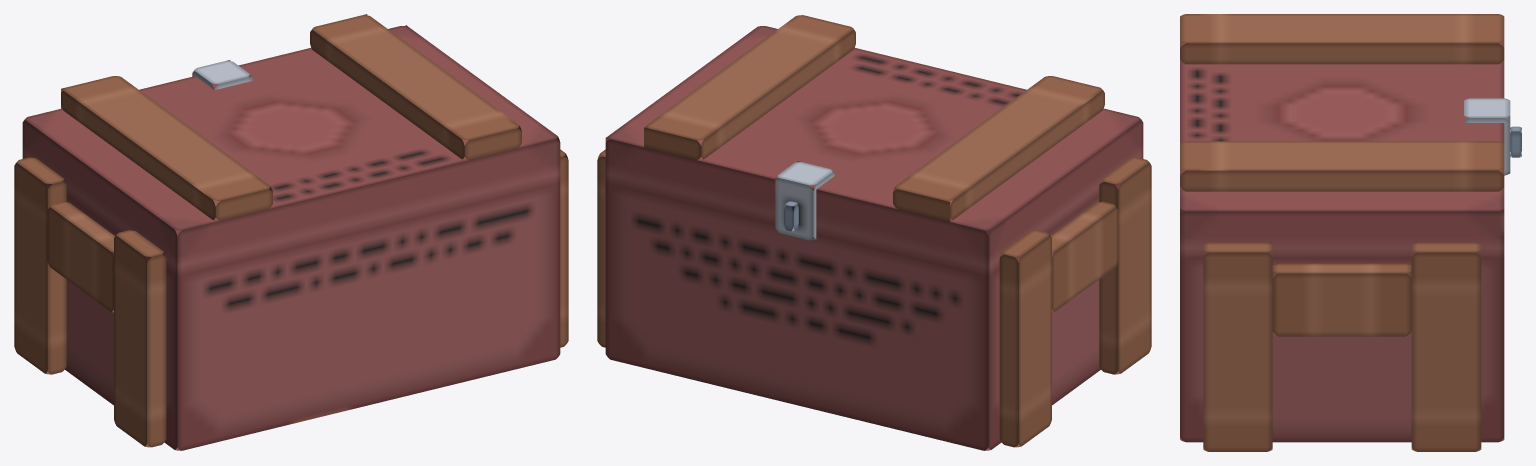
The model's file is Ammo_Box.fbx.
3 renders of one model, left to right at view 1: azimuth 30°, elevation 25°; view 2: azimuth 150°, elevation 25°; view 3: azimuth 270°, elevation 25°, orthographic. The views are drawn at different scales.
Parts seen in each view (by area): view 1: Box, Kayu, Kayu_7, Kayu_3, Kayu_1, Kayu_2, Kayu_6, cuboid; view 2: Box, Kayu_7, Kayu, Kayu_1, Kayu_3, Kayu_2, cuboid, Kayu_4; view 3: Box, Kayu_7, Kayu, Kayu_4, Kayu_6, Kayu_5, cuboid, cuboid_1.
Boxes of the visible parts, box(x1,y1,x2,y2) form: Box: box(22, 25, 560, 450); Kayu: box(61, 76, 272, 220); Kayu_7: box(310, 14, 521, 160); Kayu_3: box(114, 230, 166, 447); Kayu_1: box(14, 157, 66, 374); Kayu_2: box(47, 201, 114, 312); Kayu_6: box(560, 149, 568, 347); cuboid: box(192, 60, 252, 90); Box: box(605, 26, 1143, 450); Kayu_7: box(644, 15, 855, 160); Kayu: box(893, 76, 1104, 221); Kayu_1: box(999, 230, 1051, 447); Kayu_3: box(1099, 157, 1151, 374); Kayu_2: box(1051, 200, 1118, 312); cuboid: box(775, 161, 835, 240); Kayu_4: box(597, 149, 605, 347); Box: box(1180, 41, 1504, 442); Kayu_7: box(1180, 141, 1504, 191); Kayu: box(1180, 14, 1504, 64); Kayu_4: box(1411, 242, 1481, 451); Kayu_6: box(1203, 242, 1272, 451); Kayu_5: box(1272, 263, 1411, 336); cuboid: box(1464, 98, 1510, 175); cuboid_1: box(1510, 126, 1521, 157).
Bounding box in the file's own units: 175 × 95.25 × 117.
Materials: 1 (1 with a texture image).
